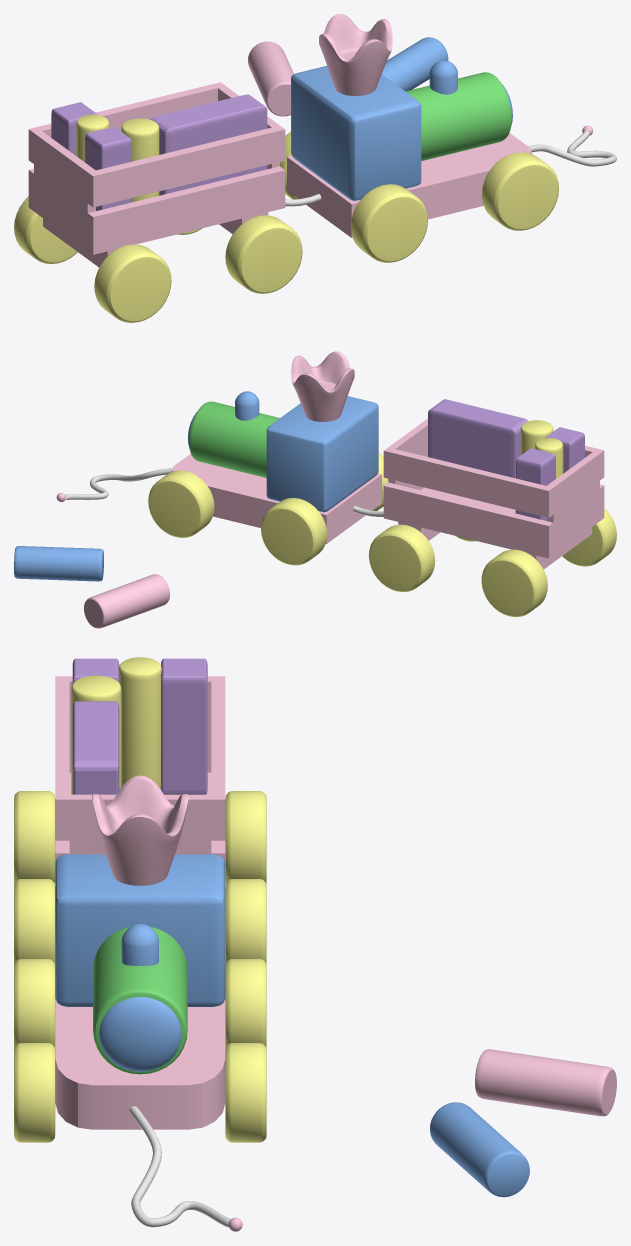
3 views of the same model, one above another, from view 1: azimuth 30°, elevation 25°; view 2: azimuth 150°, elevation 25°; view 3: azimuth 270°, elevation 25° (orthographic). The views are drawn at different scales.
Visible parts, largest first — view 1: 07_pink_0, 01_01_0, 06_pink_0, 02_green_0, pieza 03.003, rueda 06, rueda 08, rueda 04, rueda 02, 05_pink_0, pieza 07, pieza 06 (+7 smaller); view 2: 07_pink_0, 01_01_0, pieza 03.003, 06_pink_0, 02_green_0, rueda 07}, rueda 01, rueda 03, rueda 05, 05_pink_0, pieza 06, pieza 07 (+7 smaller); view 3: 01_01_0, 06_pink_0, 07_pink_0, 05_pink_0, pieza 07, pieza 03.002, 02_green_0, pieza 06, pieza 04, 03_01_0, pieza 03.003, rueda 01 (+11 smaller).
Part boxes in pixels (x1=…): 07_pink_0: x1=28, y1=82, x2=285, y2=267; 01_01_0: x1=291, y1=66, x2=421, y2=200; 06_pink_0: x1=287, y1=133, x2=531, y2=237; 02_green_0: x1=405, y1=72, x2=511, y2=160; pieza 03.003: x1=150, y1=94, x2=267, y2=195; rueda 06: x1=225, y1=215, x2=302, y2=293; rueda 08: x1=94, y1=244, x2=171, y2=322; rueda 04: x1=350, y1=184, x2=427, y2=262; rueda 02: x1=482, y1=152, x2=558, y2=230; 05_pink_0: x1=319, y1=14, x2=392, y2=95; pieza 07: x1=248, y1=41, x2=293, y2=116; pieza 06: x1=382, y1=37, x2=448, y2=91; 07_pink_0: x1=383, y1=418, x2=604, y2=569; 01_01_0: x1=266, y1=396, x2=378, y2=512; pieza 03.003: x1=428, y1=399, x2=528, y2=478; 06_pink_0: x1=171, y1=453, x2=381, y2=543; 02_green_0: x1=189, y1=401, x2=279, y2=477; rueda 07}: x1=481, y1=549, x2=547, y2=617; rueda 01: x1=148, y1=470, x2=214, y2=537; rueda 03: x1=261, y1=498, x2=327, y2=565; rueda 05: x1=368, y1=524, x2=435, y2=592; 05_pink_0: x1=291, y1=351, x2=354, y2=421; pieza 06: x1=14, y1=546, x2=103, y2=581; pieza 07: x1=84, y1=574, x2=169, y2=628; 01_01_0: x1=55, y1=854, x2=225, y2=1006; 06_pink_0: x1=55, y1=999, x2=225, y2=1129; 07_pink_0: x1=55, y1=676, x2=225, y2=861; 05_pink_0: x1=92, y1=775, x2=188, y2=885; pieza 07: x1=475, y1=1049, x2=616, y2=1116; pieza 03.002: x1=161, y1=658, x2=207, y2=794; 02_green_0: x1=93, y1=926, x2=187, y2=1074; pieza 06: x1=430, y1=1102, x2=529, y2=1197; pieza 04: x1=118, y1=657, x2=161, y2=788; 03_01_0: x1=99, y1=997, x2=181, y2=1071; pieza 03.003: x1=72, y1=701, x2=119, y2=794; rueda 01: x1=225, y1=1043, x2=266, y2=1142.
Bounding box in the file's own units: 0.1866 × 0.0628 × 0.1303.
